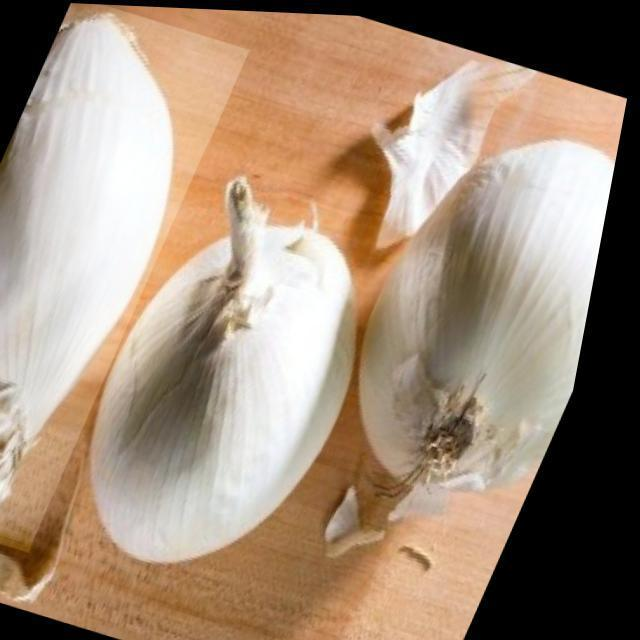Onion: (41, 136, 448, 616), (291, 81, 630, 547), (0, 0, 256, 555)
